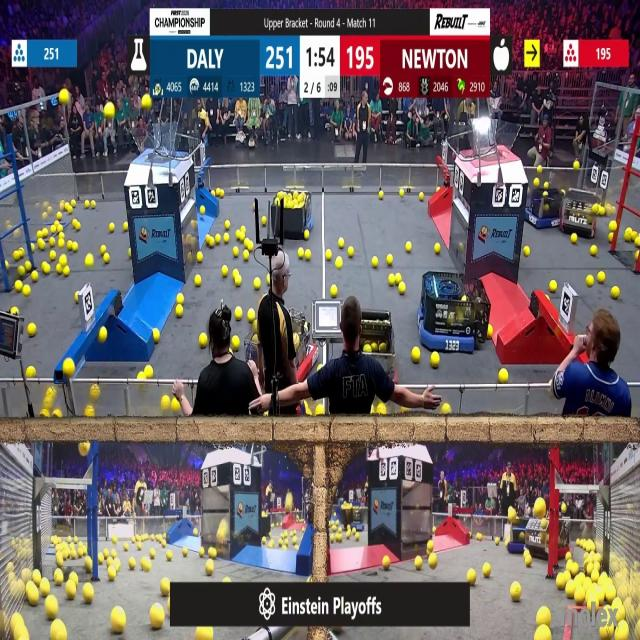ball_airborne: (533, 498, 546, 516), (105, 104, 115, 120), (60, 90, 70, 106), (142, 96, 151, 111), (284, 493, 292, 509), (572, 162, 579, 172), (561, 502, 567, 513), (540, 520, 547, 529), (529, 148, 535, 156)
ball_ground: (149, 606, 163, 630), (111, 610, 124, 634), (45, 596, 57, 620), (536, 609, 549, 627), (512, 584, 522, 602), (162, 576, 171, 595), (66, 583, 76, 599), (574, 590, 584, 605), (429, 352, 438, 368), (40, 582, 49, 598), (162, 395, 171, 411), (467, 568, 475, 584), (428, 554, 437, 568), (200, 334, 208, 349), (56, 569, 64, 584), (206, 560, 214, 575), (500, 368, 508, 382), (484, 563, 492, 577), (606, 588, 614, 602), (232, 337, 240, 351), (443, 404, 452, 416), (247, 309, 255, 322), (28, 323, 36, 336), (145, 365, 153, 378), (611, 286, 619, 299), (383, 556, 390, 570), (236, 308, 244, 320), (587, 275, 595, 287), (550, 280, 558, 292), (28, 365, 36, 377), (86, 558, 94, 570), (87, 253, 94, 266), (597, 273, 605, 284), (330, 285, 337, 297), (253, 278, 260, 290), (176, 306, 183, 318), (153, 330, 159, 344), (487, 324, 493, 338), (14, 280, 21, 292), (24, 285, 32, 295), (87, 408, 95, 418), (245, 241, 253, 251), (416, 557, 422, 570), (43, 264, 50, 275), (130, 558, 137, 569), (609, 220, 616, 231), (209, 548, 216, 559), (406, 242, 413, 253), (398, 282, 404, 294), (178, 292, 184, 304), (194, 275, 200, 287), (337, 256, 343, 268), (222, 234, 229, 244), (592, 571, 599, 581), (524, 246, 531, 256), (37, 240, 44, 250), (59, 239, 66, 249), (108, 222, 115, 232), (17, 267, 24, 277), (591, 245, 597, 256), (236, 276, 242, 287), (371, 256, 377, 267), (571, 234, 577, 245), (70, 572, 78, 580), (348, 247, 355, 256), (104, 253, 110, 263), (32, 272, 38, 282), (297, 248, 303, 258), (246, 310, 252, 320), (26, 263, 32, 273), (72, 242, 78, 252), (221, 268, 227, 278), (306, 250, 312, 260), (200, 548, 206, 558), (208, 238, 214, 248), (592, 205, 598, 215), (325, 250, 331, 260), (54, 411, 62, 418), (434, 243, 439, 254), (305, 232, 311, 241), (167, 553, 173, 562), (56, 266, 62, 275), (339, 239, 345, 248), (61, 254, 67, 263), (244, 238, 250, 247), (244, 251, 250, 260), (64, 268, 70, 277), (49, 238, 54, 248), (388, 254, 393, 264), (428, 539, 433, 549), (68, 240, 73, 250), (214, 236, 220, 244), (182, 549, 188, 557), (387, 276, 393, 284), (337, 534, 343, 542), (110, 550, 116, 558), (149, 550, 155, 558), (234, 247, 239, 256), (408, 240, 413, 249), (12, 308, 18, 315), (108, 558, 114, 565), (192, 528, 197, 536), (201, 206, 206, 214), (128, 249, 133, 257), (123, 222, 127, 231), (224, 219, 228, 228), (123, 542, 128, 549), (137, 541, 142, 548), (420, 191, 424, 199), (380, 190, 384, 198), (399, 188, 403, 196), (608, 234, 612, 242), (93, 201, 97, 209), (112, 536, 116, 543), (356, 533, 360, 540), (133, 536, 137, 542)
goal: (465, 120, 520, 159), (132, 132, 189, 159)
robot_blue: (416, 269, 492, 359), (272, 186, 313, 237), (522, 184, 560, 230), (506, 519, 530, 555), (347, 506, 368, 531)
robot_red: (239, 308, 322, 395), (528, 513, 573, 557), (558, 189, 594, 239), (361, 307, 395, 357)
